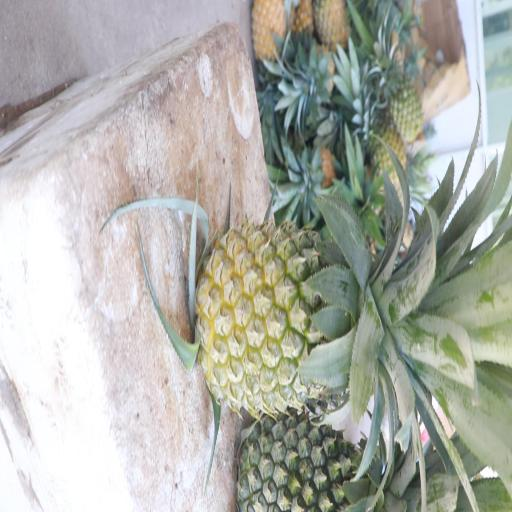------------------------------: (377, 55, 425, 138), (364, 108, 408, 186)
Pineapple - v8 v1: (201, 215, 419, 416), (250, 0, 291, 64)
